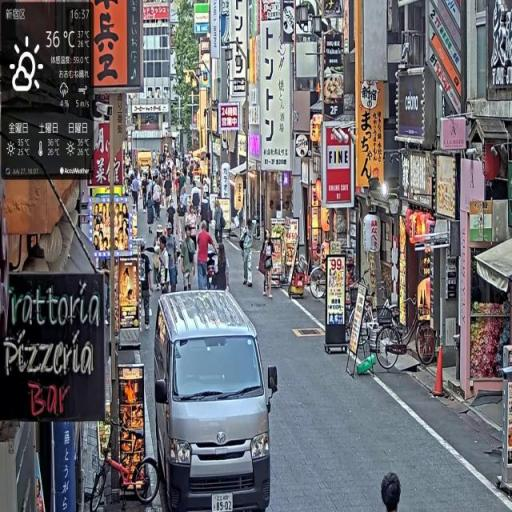person: (138, 241, 155, 330), (260, 232, 277, 301), (182, 225, 198, 295), (241, 222, 256, 289)
